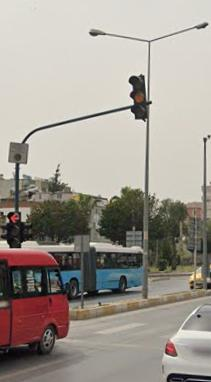redlight: (7, 208, 24, 250)
yellowlight: (130, 75, 150, 119)
